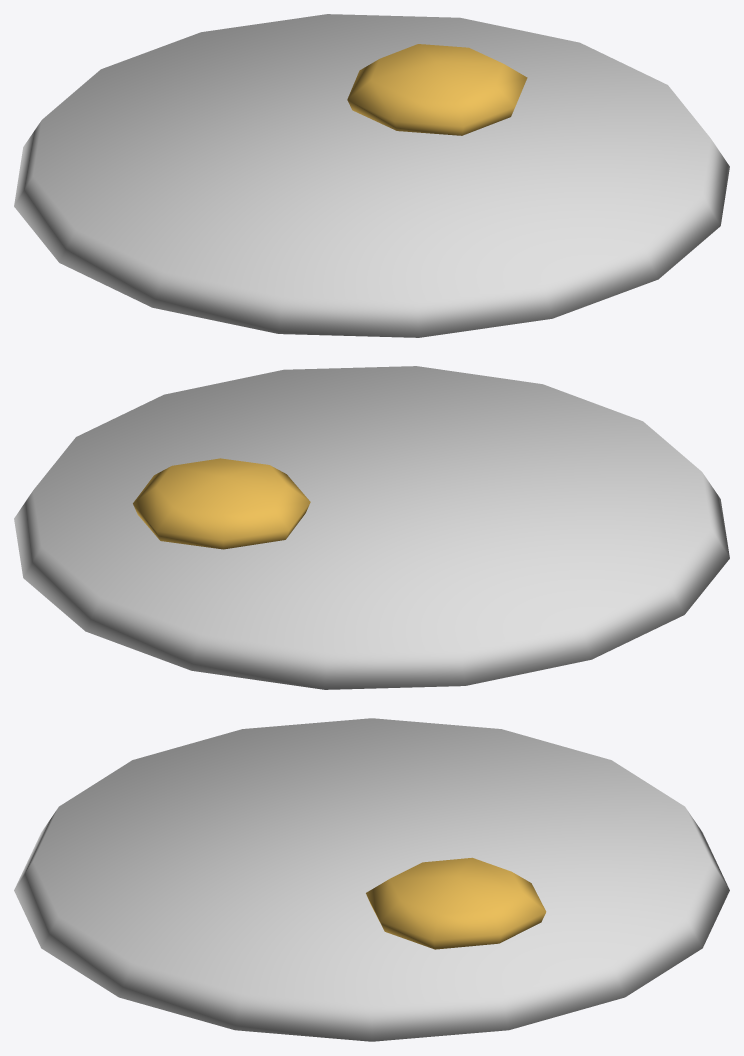
File: Egg_2.fbx
3 views of the same model, one above another, from view 1: azimuth 30°, elevation 25°; view 2: azimuth 150°, elevation 25°; view 3: azimuth 270°, elevation 25° (orthographic).
Visible parts, largest first — view 1: Egg_2_pan_raw; view 2: Egg_2_pan_raw; view 3: Egg_2_pan_raw.
Part boxes in pixels (left/top/right/bottom): Egg_2_pan_raw: left=14, top=14, right=729, bottom=337; Egg_2_pan_raw: left=14, top=366, right=729, bottom=689; Egg_2_pan_raw: left=14, top=718, right=729, bottom=1041.
Size of the model in its own units: 22.64 by 2.3 by 22.64.
